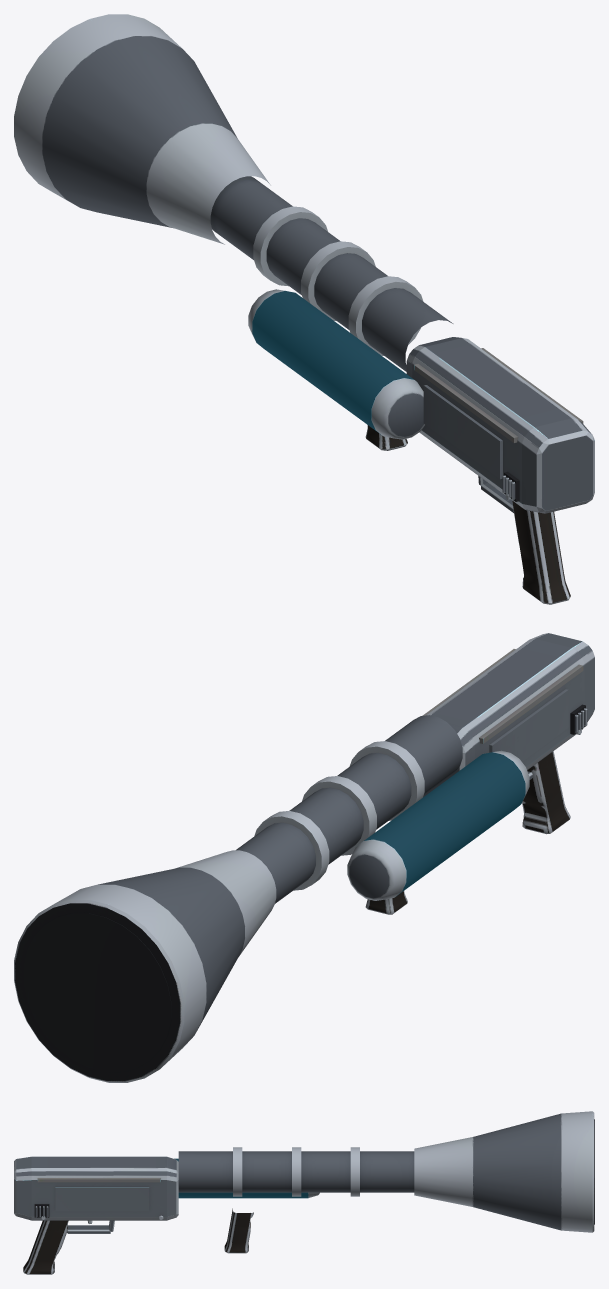
The picture shows the model from 3 angles, top to bottom: view 1: azimuth 30°, elevation 25°; view 2: azimuth 150°, elevation 25°; view 3: azimuth 270°, elevation 25°; orthographic projection. The views are drawn at different scales.
Visible parts, largest first — view 1: body; view 2: body; view 3: body.
Boxes of the visible parts, x1,y1,x2,y2 form: body: [14, 14, 594, 604]; body: [14, 633, 594, 1082]; body: [14, 1111, 594, 1274].
Size of the model in its own units: 0.2063 by 0.2881 by 0.987.
1 material, 1 textured.
